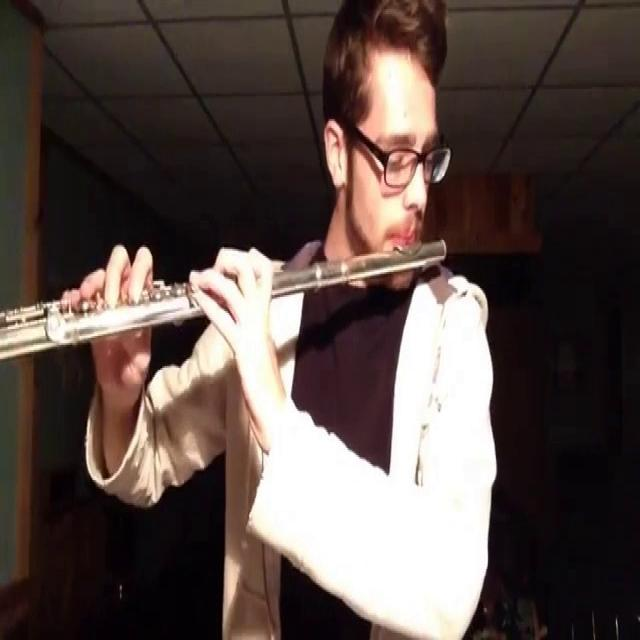Flute: (0, 224, 459, 390)
